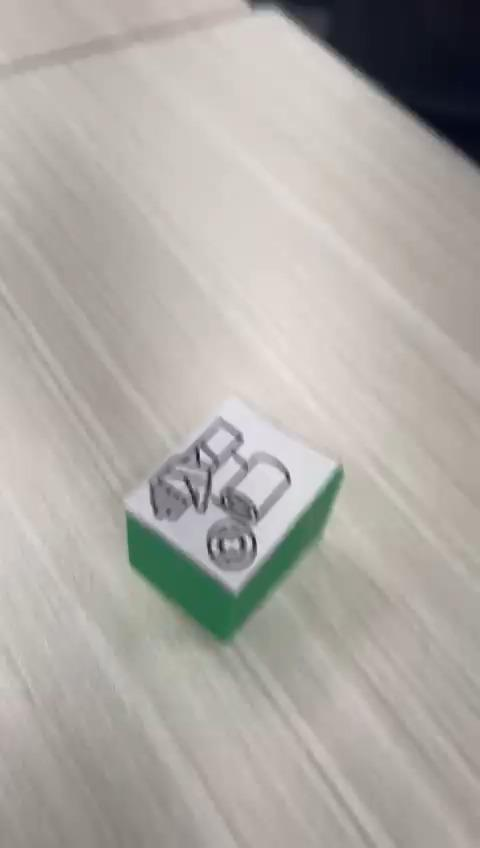Bandages: (121, 394, 345, 648)
